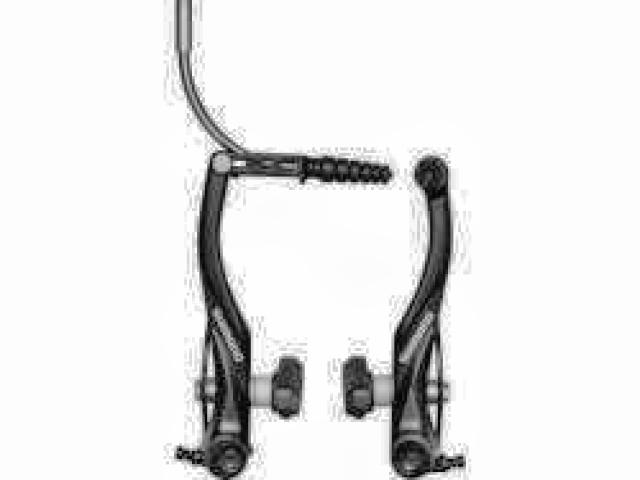rim_brake: (172, 144, 463, 478)
